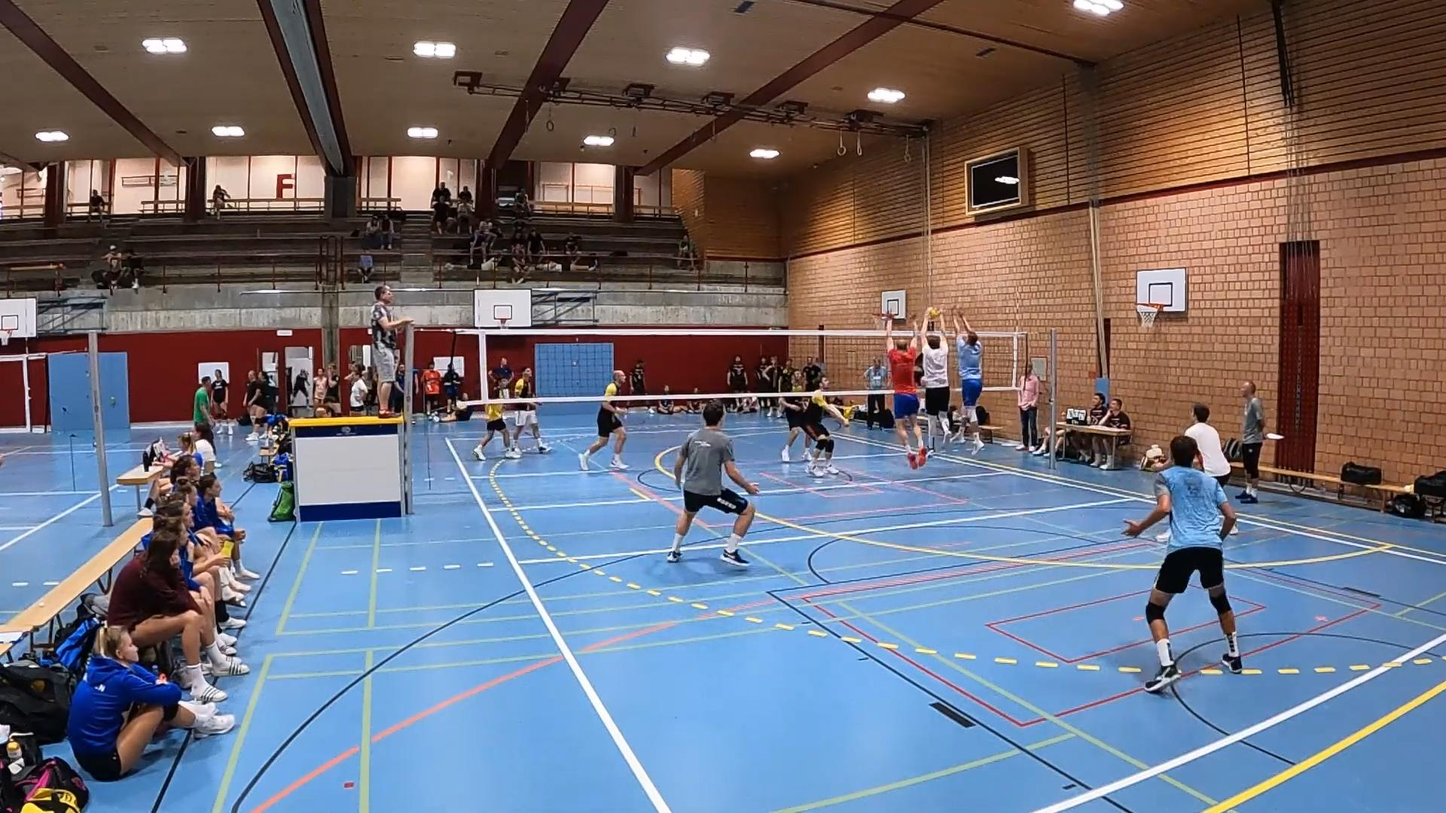Block: (875, 315, 922, 471), (918, 303, 959, 471), (948, 307, 990, 458)
Player: (1125, 436, 1241, 692), (667, 400, 758, 566), (578, 370, 627, 470), (803, 376, 850, 477), (509, 367, 549, 458), (473, 379, 511, 460), (781, 394, 807, 462)
ball: (928, 307, 945, 318)
